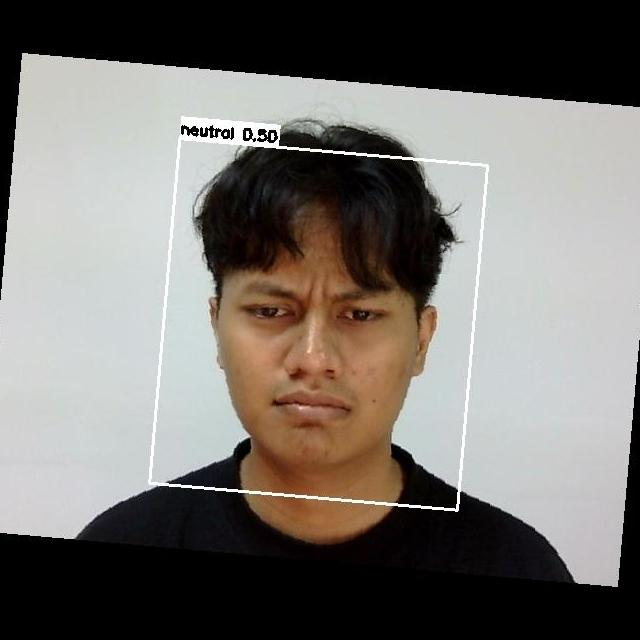Sad: (211, 243, 413, 447)
